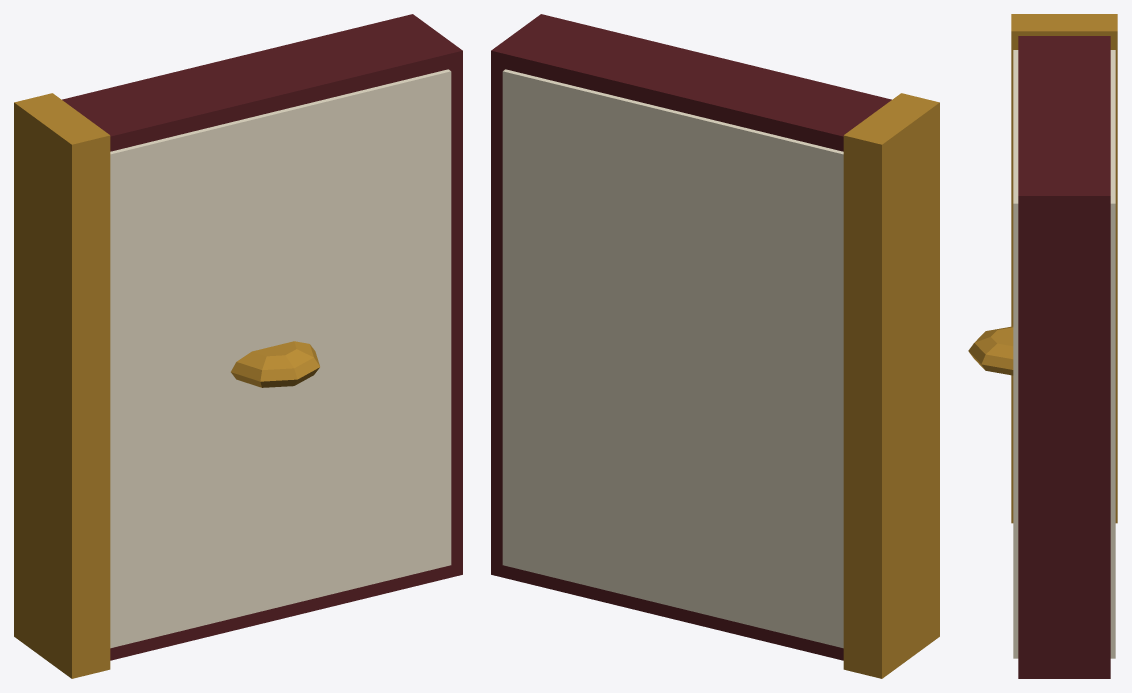
File: g-tome.glb
3 renders of one model, left to right at view 1: azimuth 30°, elevation 25°; view 2: azimuth 150°, elevation 25°; view 3: azimuth 270°, elevation 25°, orthographic. The views are drawn at different scales.
Visible parts, largest first — view 1: g-tome; view 2: g-tome; view 3: g-tome.
Part boxes in pixels (left/top/right/bottom): g-tome: left=14, top=14, right=462, bottom=678; g-tome: left=491, top=14, right=939, bottom=678; g-tome: left=968, top=14, right=1117, bottom=678.
Bounding box in the file's own units: 0.205 × 0.265 × 0.073.
